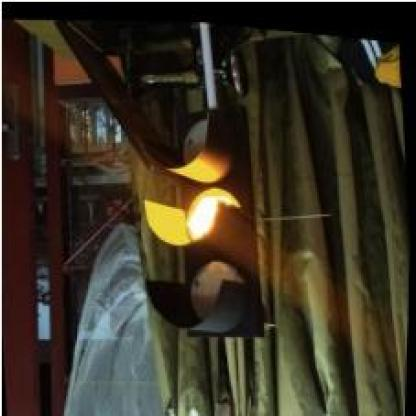yellow: (128, 92, 272, 340)
